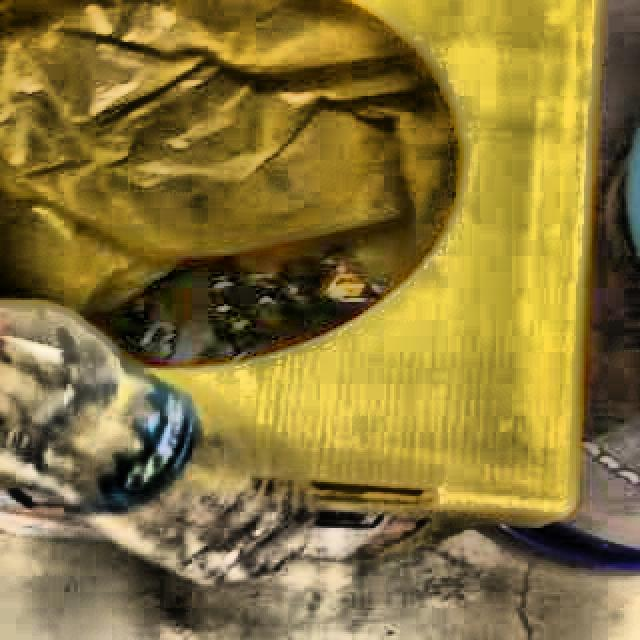plastic: (0, 302, 317, 585)
